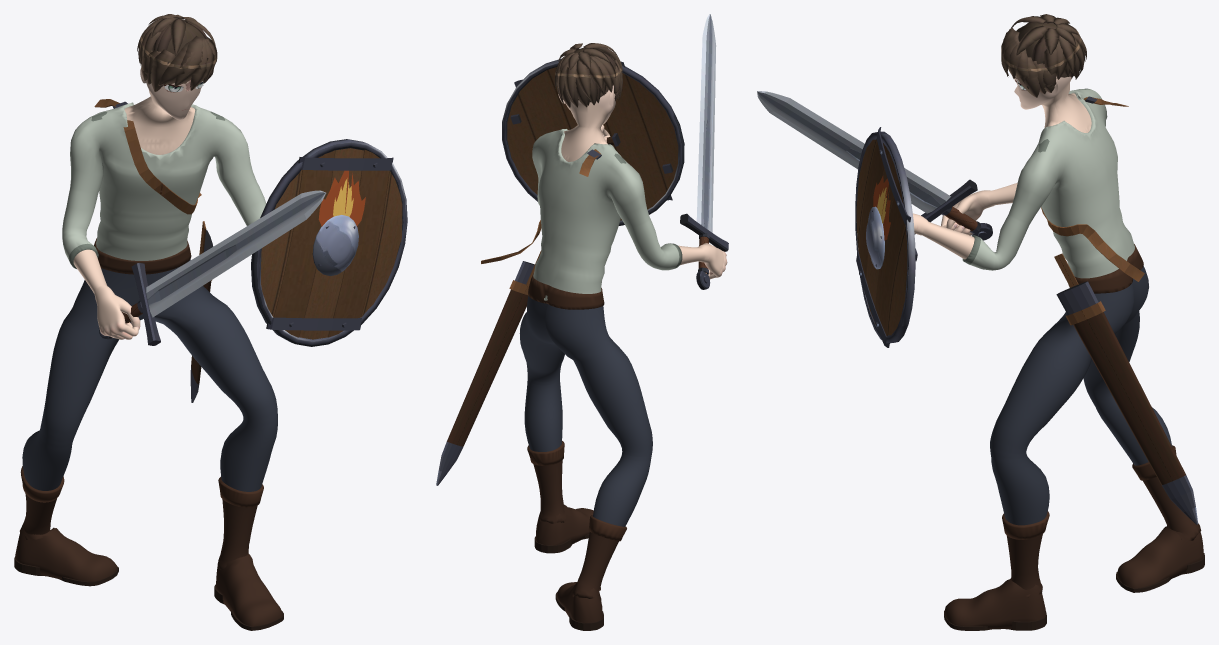
Rendered from adventurer-a049-pose.glb.
3 renders of one model, left to right at view 1: azimuth 30°, elevation 25°; view 2: azimuth 150°, elevation 25°; view 3: azimuth 270°, elevation 25°, orthographic. The views are drawn at different scales.
Visible parts, largest first — view 1: AG_Shield, Enosh_Outfit_Trousers, Enosh_Outfit_Shirt, AG_Sword, Enosh_Outfit_BootFeet, Enosh_Skin, Enosh_Hair_01, Enosh_Outfit_Boots, AG_ShieldSling, Enosh_Outfit_Belt, Enosh_Outfit_BootCuffs, Enosh_Outfit_BootSoles (+1 smaller); view 2: Enosh_Outfit_Trousers, Enosh_Outfit_Shirt, AG_Shield, AG_Scabbard, AG_Sword, Enosh_Hair_01, Enosh_Skin, Enosh_Outfit_Boots, Enosh_Outfit_BootFeet, Enosh_Outfit_Belt, Enosh_Outfit_BootCuffs, Enosh_Outfit_BootSoles (+1 smaller); view 3: Enosh_Outfit_Trousers, Enosh_Outfit_Shirt, AG_Shield, AG_Scabbard, Enosh_Outfit_BootFeet, AG_Sword, Enosh_Hair_01, Enosh_Skin, Enosh_Outfit_Boots, Enosh_Outfit_BootSoles, Enosh_Outfit_Belt, Enosh_Outfit_BootCuffs (+2 smaller).
Boxes of the visible parts, <box> form: AG_Shield: <box>251,139,407,346</box>; Enosh_Outfit_Trousers: <box>22,259,277,491</box>; Enosh_Outfit_Shirt: <box>62,102,266,268</box>; AG_Sword: <box>98,190,326,345</box>; Enosh_Outfit_BootFeet: <box>15,523,282,626</box>; Enosh_Skin: <box>73,68,202,339</box>; Enosh_Hair_01: <box>137,14,217,91</box>; Enosh_Outfit_Boots: <box>19,493,257,569</box>; AG_ShieldSling: <box>112,101,197,214</box>; Enosh_Outfit_Belt: <box>94,238,191,274</box>; Enosh_Outfit_BootCuffs: <box>20,466,263,507</box>; Enosh_Outfit_BootSoles: <box>14,557,283,630</box>; Enosh_Outfit_Trousers: <box>519,295,652,526</box>; Enosh_Outfit_Shirt: <box>532,129,682,300</box>; AG_Shield: <box>502,58,684,225</box>; AG_Scabbard: <box>436,250,541,485</box>; AG_Sword: <box>680,14,728,289</box>; Enosh_Hair_01: <box>554,43,622,107</box>; Enosh_Skin: <box>558,85,727,279</box>; Enosh_Outfit_Boots: <box>533,460,618,598</box>; Enosh_Outfit_BootFeet: <box>535,504,602,623</box>; Enosh_Outfit_Belt: <box>528,273,604,309</box>; Enosh_Outfit_BootCuffs: <box>527,441,626,541</box>; Enosh_Outfit_BootSoles: <box>534,534,603,630</box>; Enosh_Outfit_Trousers: <box>990,266,1172,525</box>; Enosh_Outfit_Shirt: <box>962,88,1134,278</box>; AG_Shield: <box>855,127,917,347</box>; AG_Scabbard: <box>1054,253,1198,524</box>; Enosh_Outfit_BootFeet: <box>944,526,1203,628</box>; AG_Sword: <box>757,91,992,240</box>; Enosh_Hair_01: <box>1001,14,1086,97</box>; Enosh_Skin: <box>912,76,1091,259</box>; Enosh_Outfit_Boots: <box>1006,477,1201,597</box>; Enosh_Outfit_BootSoles: <box>944,553,1204,630</box>; Enosh_Outfit_Belt: <box>1068,244,1143,293</box>; Enosh_Outfit_BootCuffs: <box>1002,445,1176,539</box>.
Size of the model in its own units: 0.8198 by 1.65 by 1.15.
Materials: 27 (16 with a texture image).
